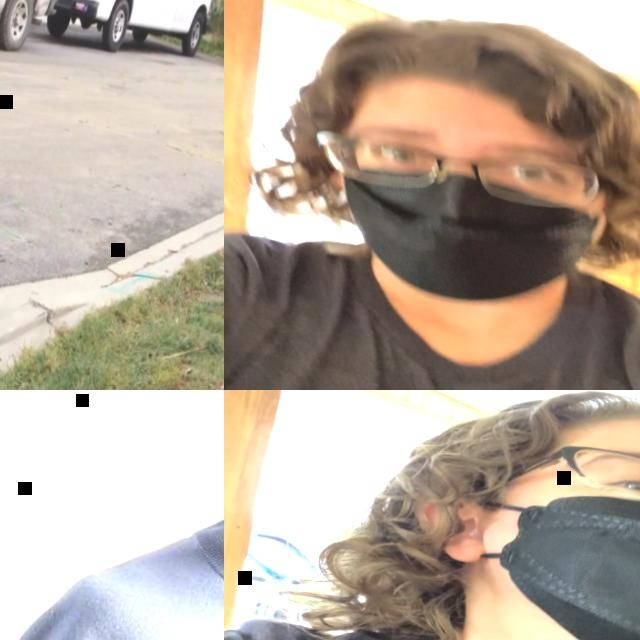Mask: (315, 149, 612, 328), (450, 449, 640, 640)
NO-Hardhat: (312, 0, 640, 174), (460, 390, 640, 513)
NO-Safety Vest: (224, 188, 640, 390), (224, 585, 640, 640), (66, 525, 224, 640)
Person: (224, 0, 640, 390), (224, 390, 640, 640), (0, 390, 224, 640), (0, 390, 108, 640)
vehicle: (30, 0, 224, 70)
